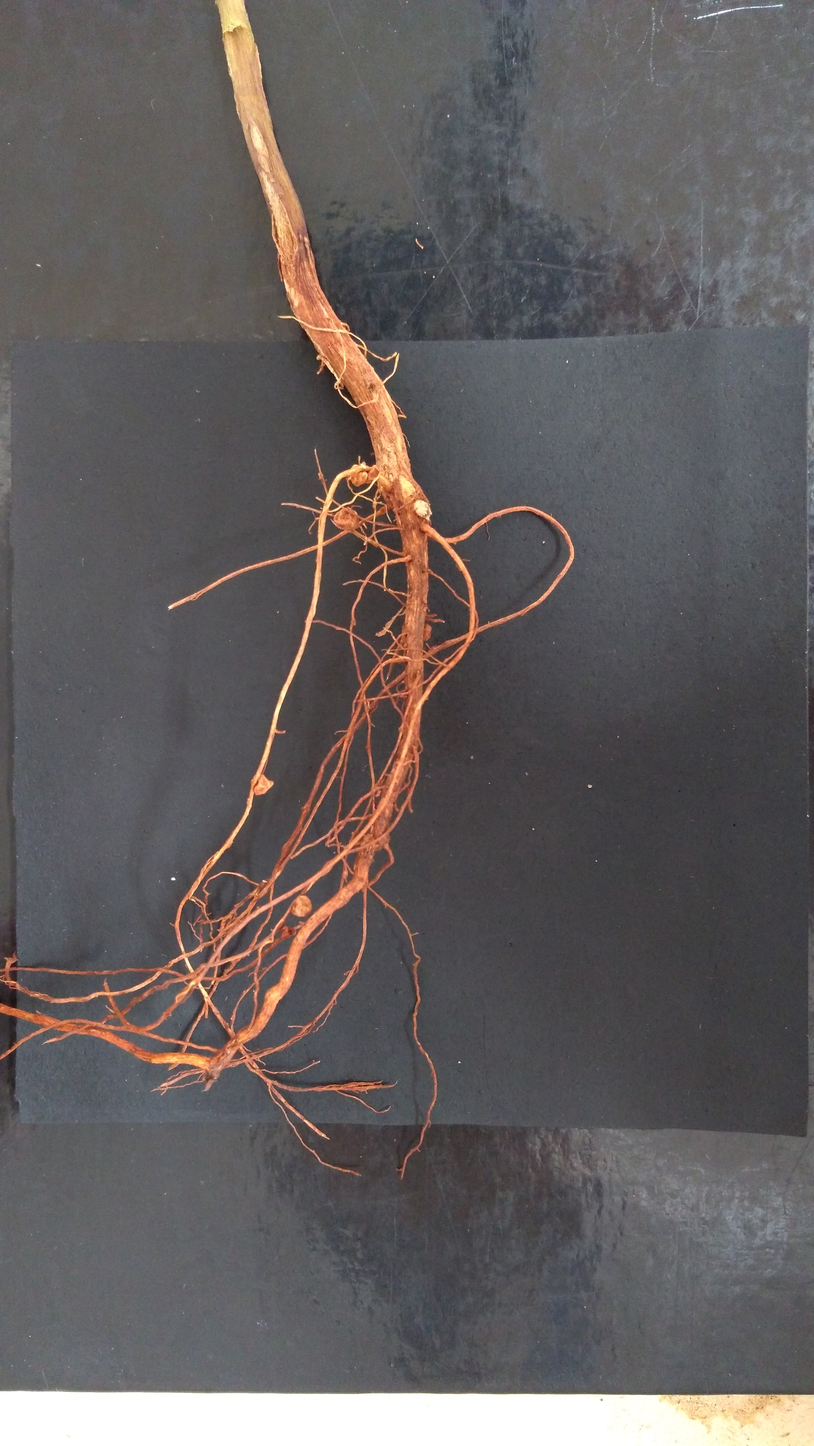nodule: (333, 508, 361, 532), (251, 773, 274, 796), (290, 894, 312, 917), (350, 464, 368, 487), (365, 464, 380, 484), (281, 924, 297, 939), (422, 622, 432, 642), (371, 784, 383, 797), (316, 354, 322, 360), (403, 642, 407, 649)
